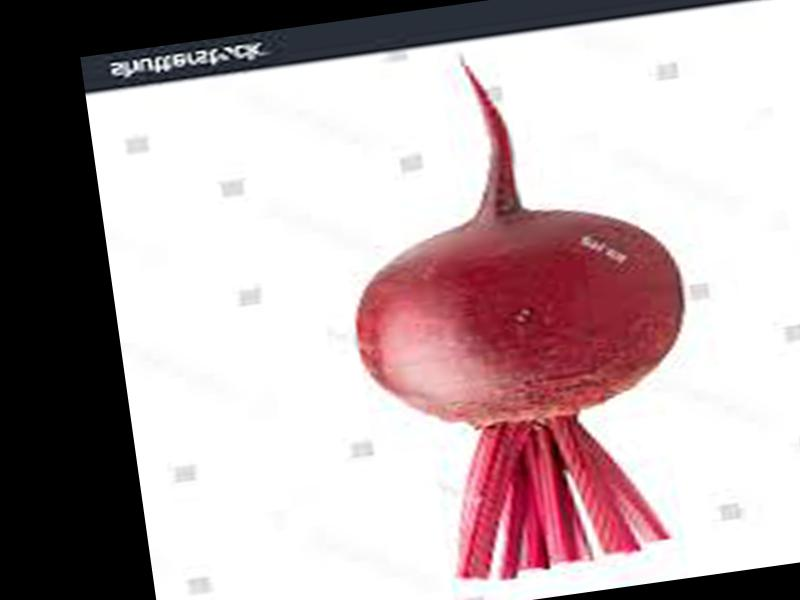Beet: (321, 29, 718, 592)
